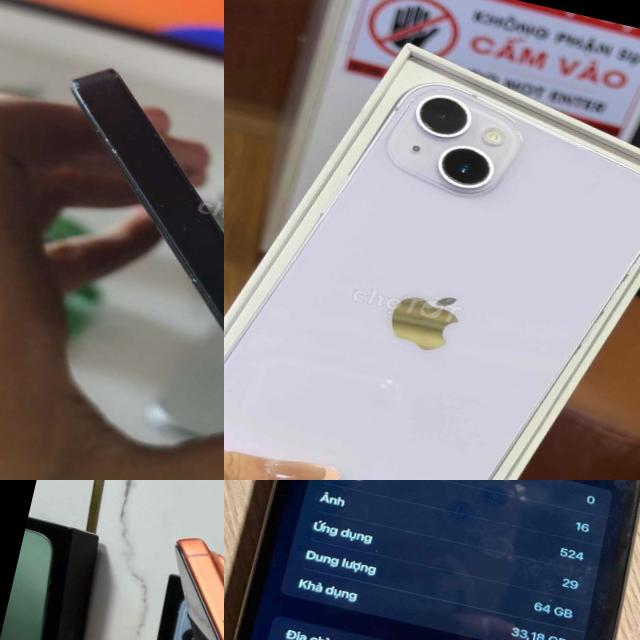gen_14: (224, 33, 640, 480), (0, 39, 224, 467)
gen_17: (81, 516, 224, 640)
gen_x_xs: (224, 480, 640, 640)
